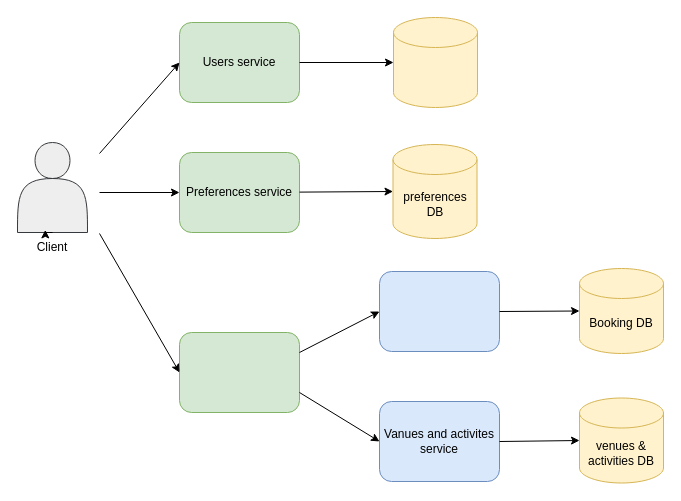
Image size: 681x501. Some labels were removed from this diagram. Each missing label, with the centre of its shape:
"Booking service" goes at [439,311].
"Planing service" goes at [239,372].
"users DB" goes at [435,62].
